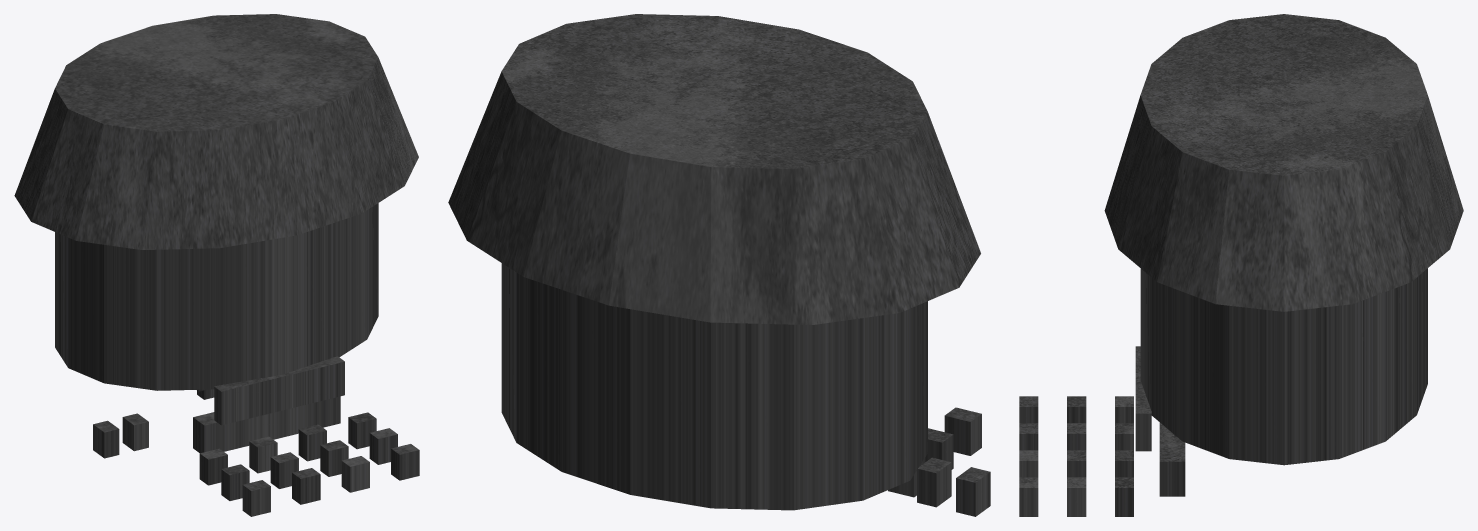
Rendered from gauntlet.fbx.
3 renders of one model, left to right at view 1: azimuth 30°, elevation 25°; view 2: azimuth 150°, elevation 25°; view 3: azimuth 270°, elevation 25°, orthographic. The views are drawn at different scales.
Visible parts, largest first — view 1: gauntlet; view 2: gauntlet; view 3: gauntlet.
Boxes of the visible parts, left/top/right/bottom form: gauntlet: left=14, top=14, right=419, bottom=516; gauntlet: left=448, top=14, right=990, bottom=516; gauntlet: left=1019, top=14, right=1463, bottom=516.
Size of the model in its own units: 0.15 by 0.13 by 0.1393.
Materials: 1 (1 with a texture image).
